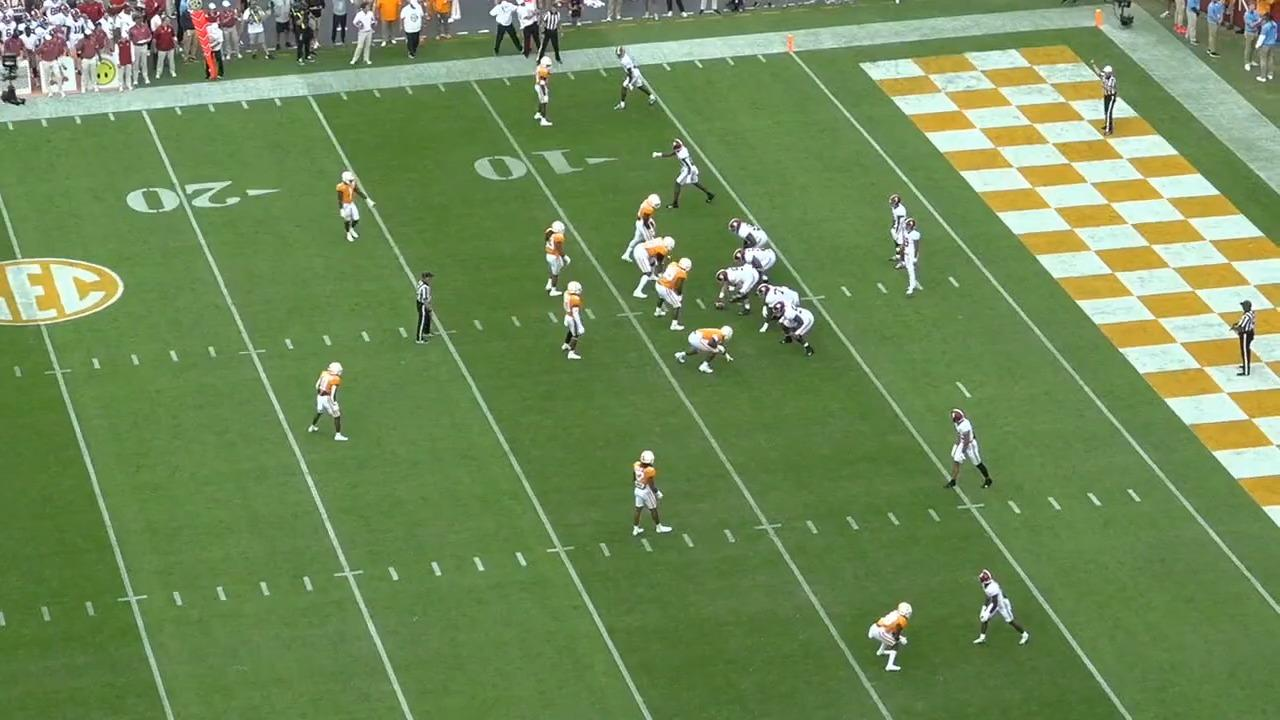player: (964, 569, 1031, 652), (941, 403, 995, 493), (630, 448, 677, 544), (663, 137, 715, 213), (301, 361, 344, 448), (871, 597, 917, 676), (654, 256, 698, 334), (674, 326, 737, 380), (628, 236, 677, 304), (618, 189, 662, 263), (618, 46, 665, 113), (770, 305, 818, 364), (537, 214, 570, 299), (330, 168, 364, 249), (564, 280, 594, 370), (758, 285, 805, 339), (899, 215, 928, 301), (714, 263, 761, 315), (887, 193, 912, 273), (733, 245, 778, 289), (532, 53, 558, 127), (727, 217, 771, 253)
ref: (414, 271, 441, 348), (1229, 302, 1256, 379), (1102, 62, 1125, 137), (543, 5, 568, 67)
